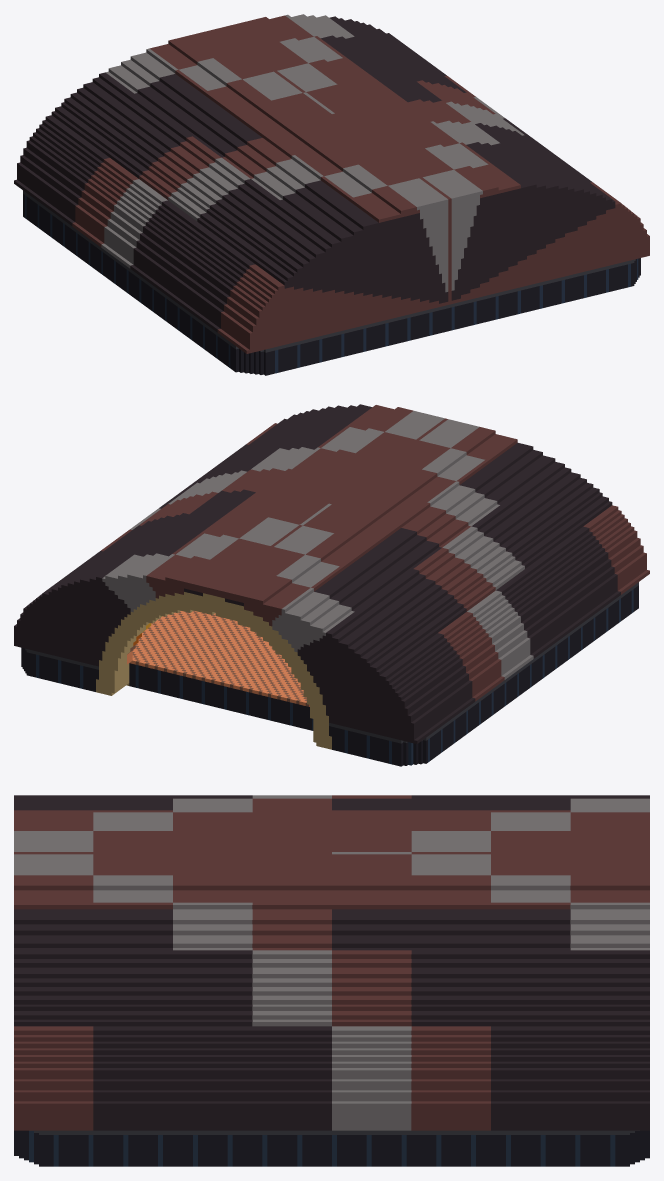
File: furnace.glb
3 renders of one model, top to bottom at view 1: azimuth 30°, elevation 25°; view 2: azimuth 150°, elevation 25°; view 3: azimuth 270°, elevation 25°, orthographic. The views are drawn at different scales.
Visible parts, largest first — view 1: Untitled; view 2: Untitled; view 3: Untitled.
Boxes of the visible parts, x1,y1,x2,y2 form: Untitled: (14,14,649,375); Untitled: (14,404,649,766); Untitled: (14,795,649,1166).
Bounding box in the file's own units: 12.8 × 4 × 12.8.
Materials: 1 (1 with a texture image).
